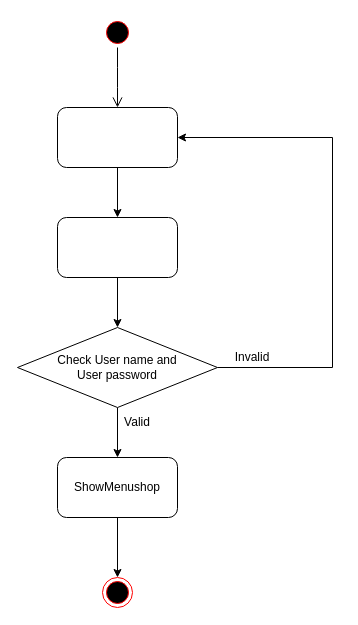
Some shapes in this 358 by 625 pixel diagram are drawn without their labels. The shapes that lost their labels are listed below. From the top down, each one's centre as x and y in pixels, then its label:
point (117, 137): Login Screen
point (117, 247): Verify User
